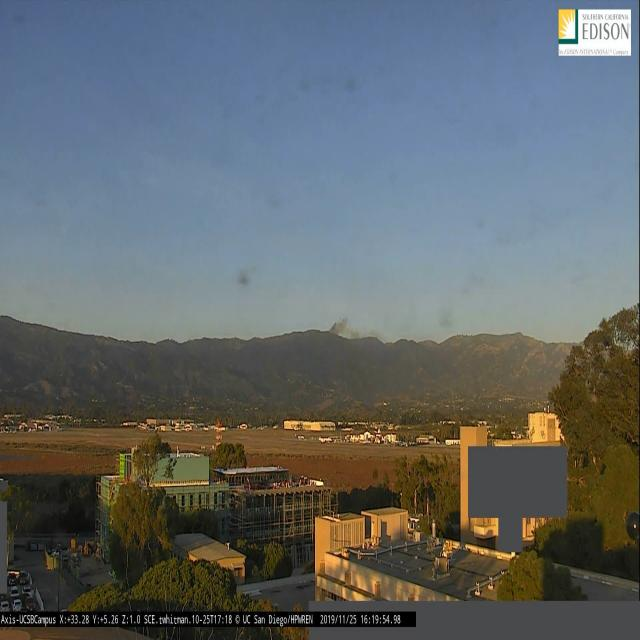smoke: (324, 318, 364, 342)
